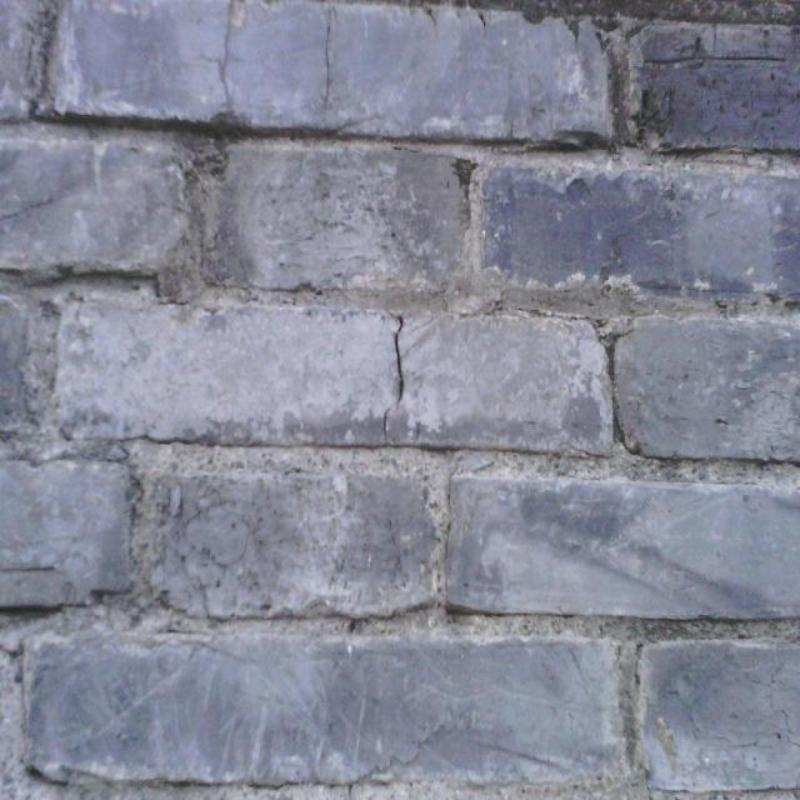pothole: (383, 315, 404, 438), (322, 11, 332, 108)
